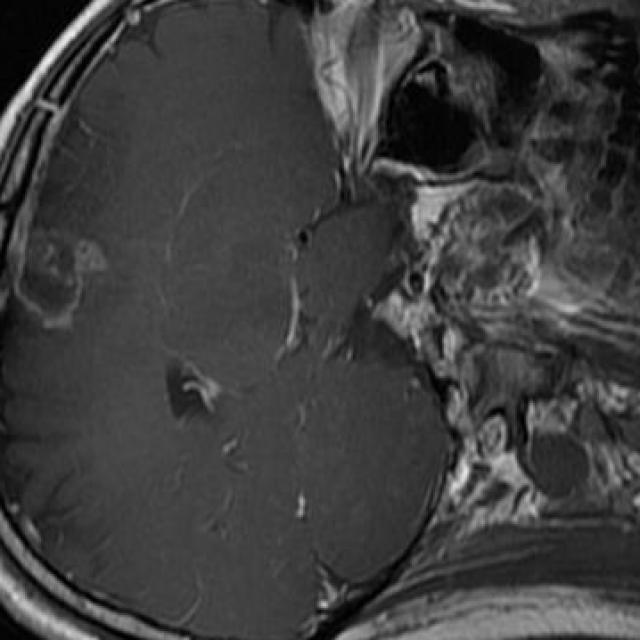glioma: (16, 230, 109, 330)
